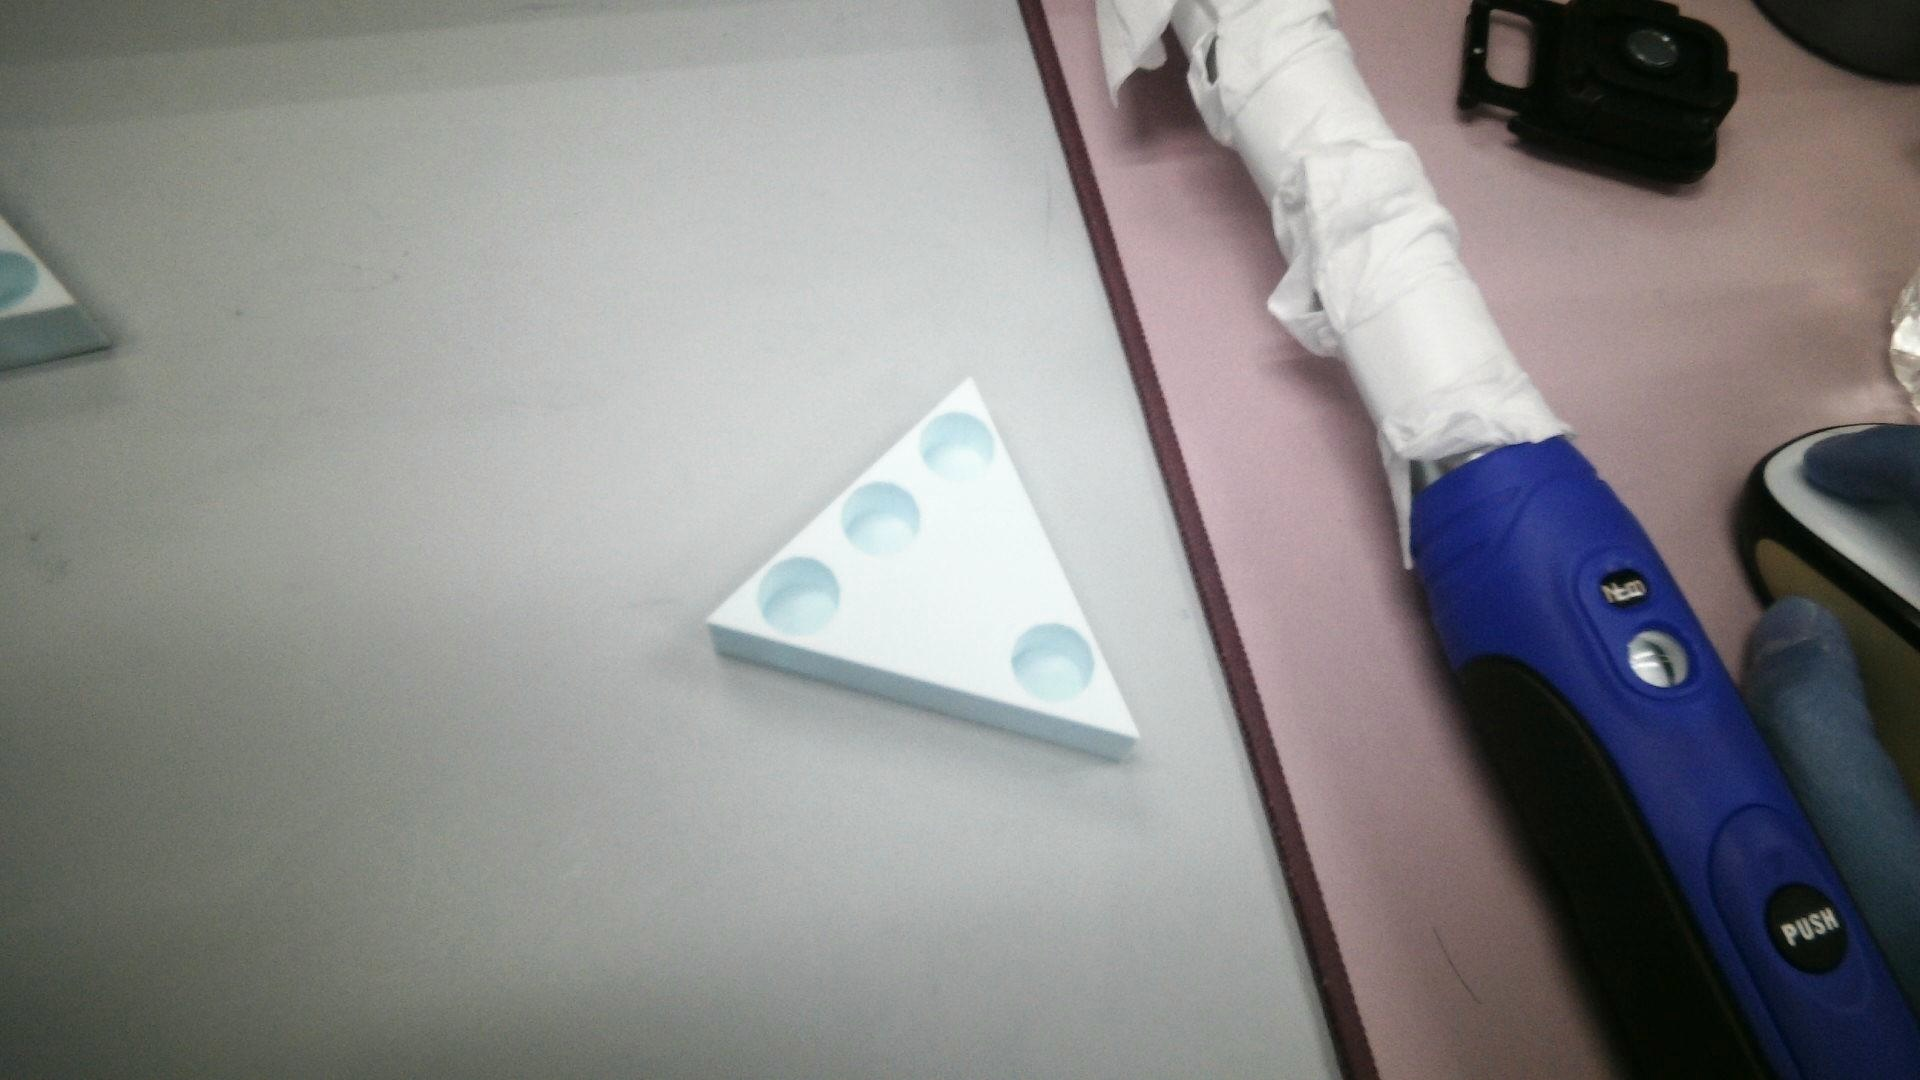hole: (1007, 615, 1101, 717), (752, 559, 840, 646), (837, 484, 919, 564), (918, 411, 1000, 489)
obj: (691, 365, 1150, 791)
